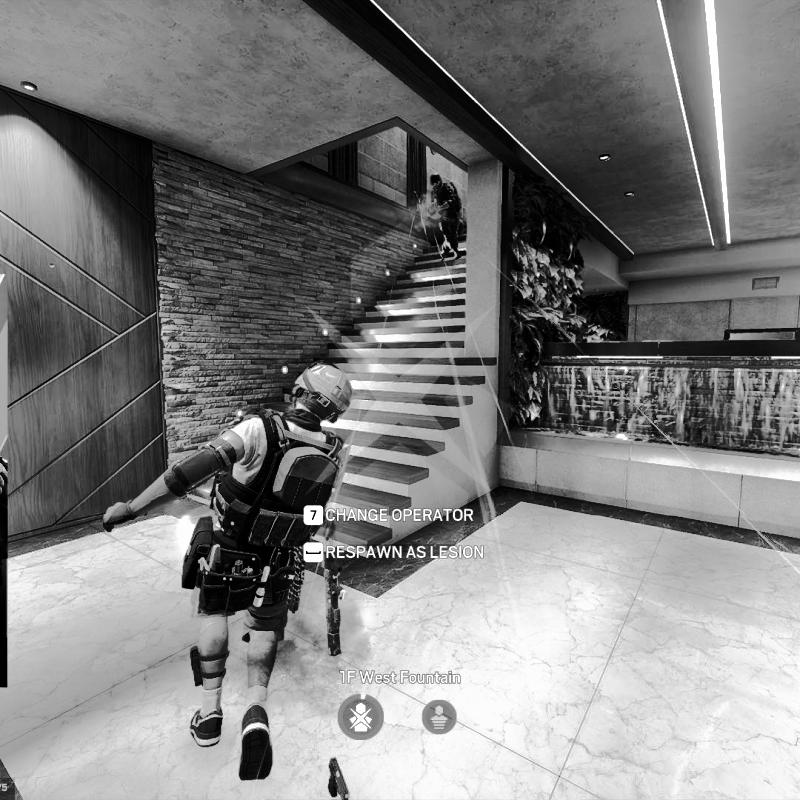Character: (97, 354, 362, 777), (428, 172, 470, 264)
Head: (289, 359, 355, 428), (429, 173, 442, 190)
